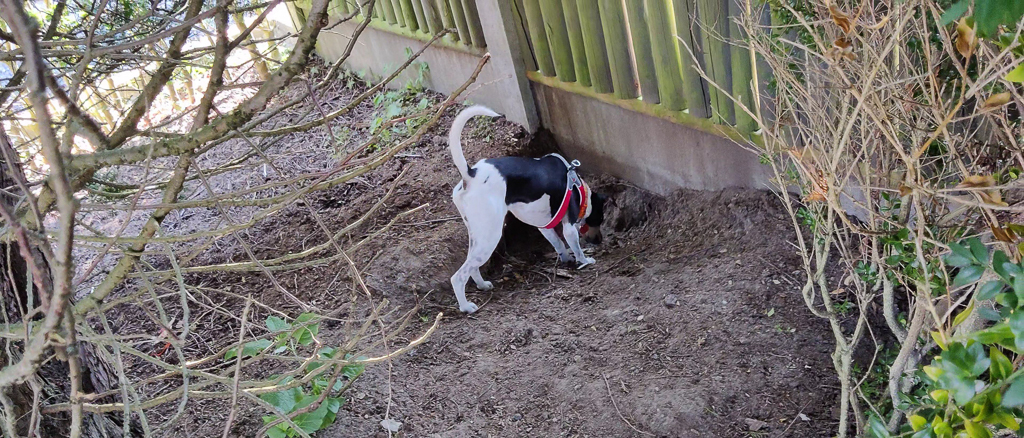Dog: (431, 97, 621, 319)
